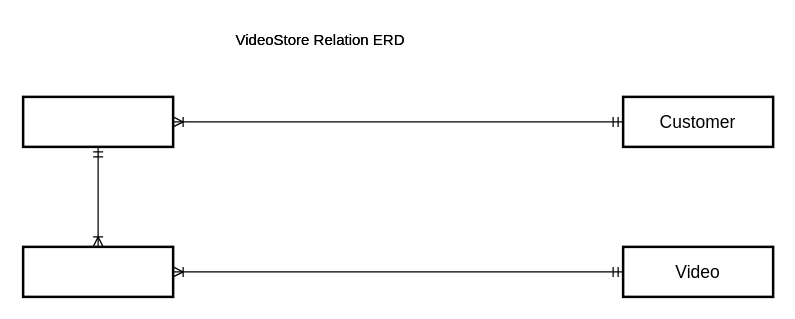
This 795x319 diagram has some shape labels left out. The shapes that lost their labels are listed below. From the top down, each one's centre as x and y in pixels, then its label:
(97,121): Transaction
(97,271): RentalVideo
